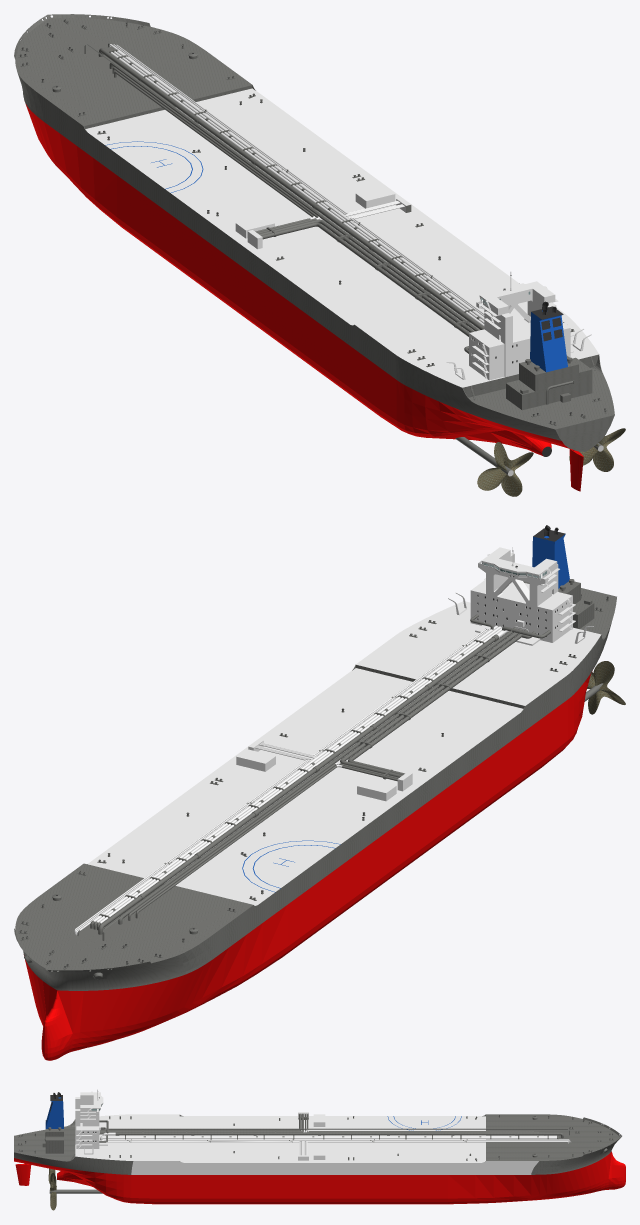
The model's file is Asset_Oil-Tanker.glb.
3 renders of one model, top to bottom at view 1: azimuth 30°, elevation 25°; view 2: azimuth 150°, elevation 25°; view 3: azimuth 270°, elevation 25°, orthographic. The views are drawn at different scales.
Parts seen in each view (by area): view 1: Oil Tanker; view 2: Oil Tanker; view 3: Oil Tanker.
Part boxes in pixels (x1=…): Oil Tanker: x1=14, y1=14, x2=625, y2=496; Oil Tanker: x1=14, y1=525, x2=625, y2=1060; Oil Tanker: x1=14, y1=1089, x2=625, y2=1210.
Size of the model in its own units: 68.17 by 71.88 by 377.
Materials: 8 (2 with a texture image).
